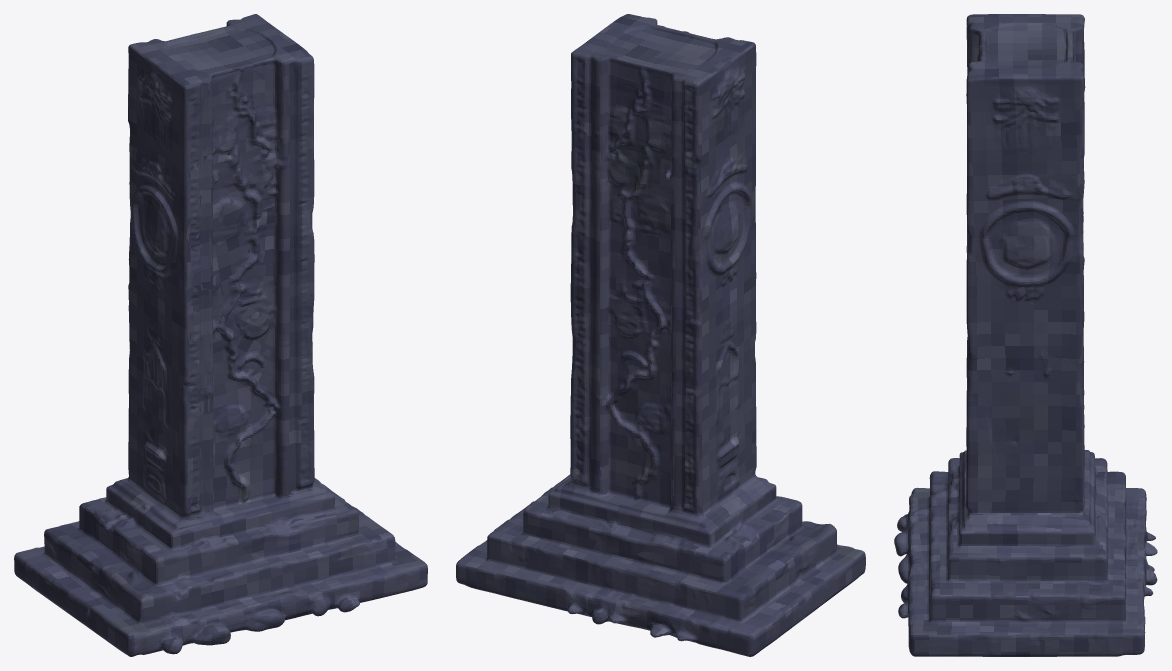
File: weathered-monolith-pillar-generated-2026-04-19T23-27-04-251Z.high.glb
3 views of the same model, side by side, from view 1: azimuth 30°, elevation 25°; view 2: azimuth 150°, elevation 25°; view 3: azimuth 270°, elevation 25° (orthographic).
Parts seen in each view (by area): view 1: temp_mesh.ply; view 2: temp_mesh.ply; view 3: temp_mesh.ply.
Boxes of the visible parts, x1,y1,x2,y2 form: temp_mesh.ply: (14, 14, 427, 656); temp_mesh.ply: (456, 14, 865, 656); temp_mesh.ply: (894, 14, 1157, 656).
Size of the model in its own units: 1.17 by 1.97 by 0.8741.
Materials: 1 (1 with a texture image).
